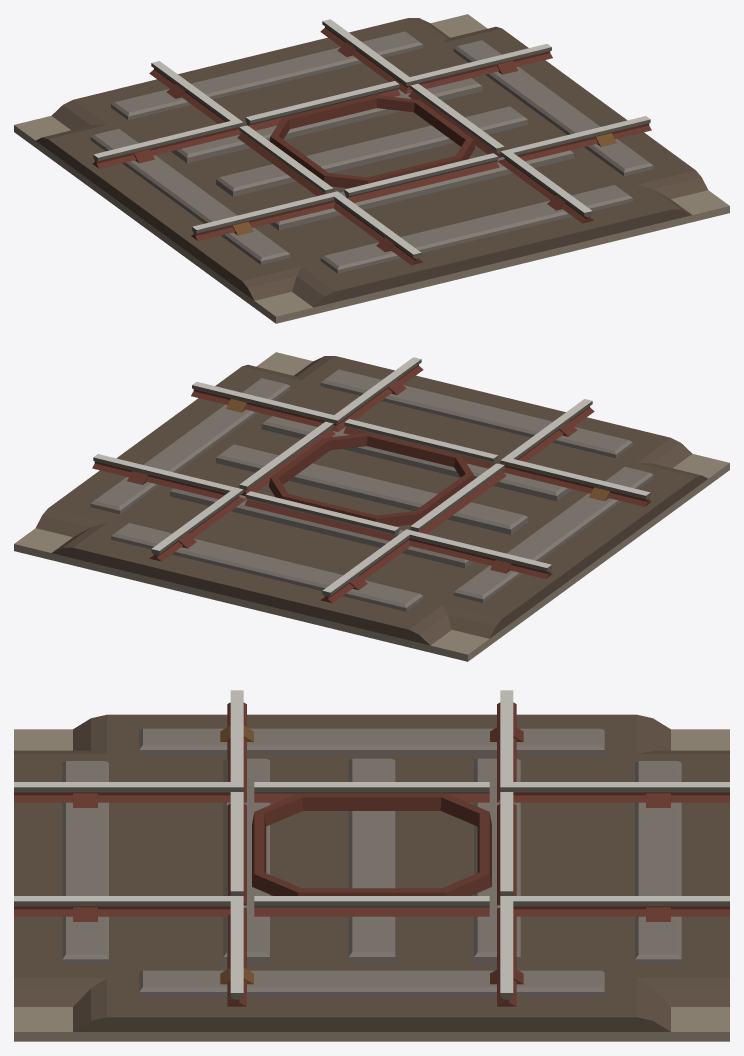
Rendered from diamond-crossing-436c20.glb.
3 views of the same model, one above another, from view 1: azimuth 30°, elevation 25°; view 2: azimuth 150°, elevation 25°; view 3: azimuth 270°, elevation 25° (orthographic). The views are drawn at different scales.
Parts seen in each view (by area): view 1: diamond-crossing-body; view 2: diamond-crossing-body; view 3: diamond-crossing-body.
Boxes of the visible parts, x1,y1,x2,y2 form: diamond-crossing-body: (14, 14, 729, 323); diamond-crossing-body: (14, 352, 729, 661); diamond-crossing-body: (14, 690, 729, 1041).
Bounding box in the file's own units: 4 × 0.3 × 4.
